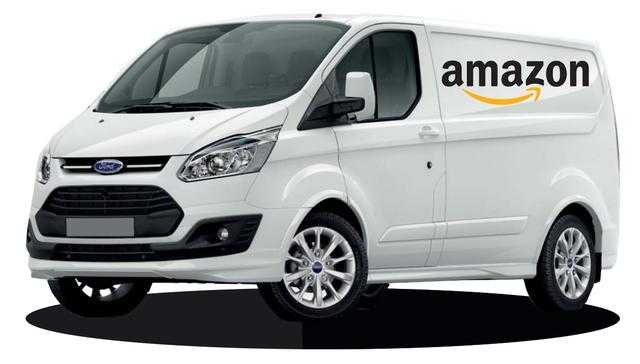van: (27, 13, 620, 322)
